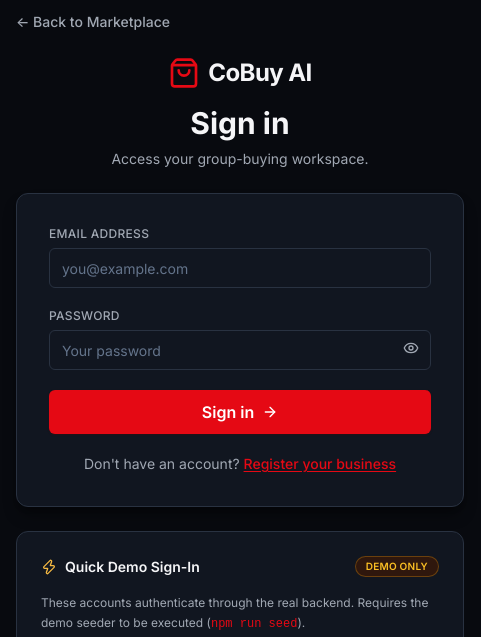
Scenario: HIM-04: LoginPage › shows password required error when password is empty
This screenshot has width=481, height=637.
Type "test@test.com" into the field labelled "Email address" at (240, 268), box x1=49 y1=248 x2=431 y2=288
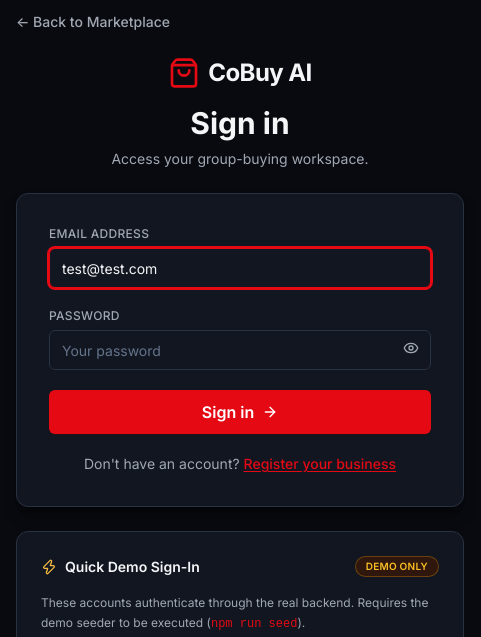
Click the button with aria-label "sign in to your account" at (240, 412), box x1=49 y1=390 x2=431 y2=434
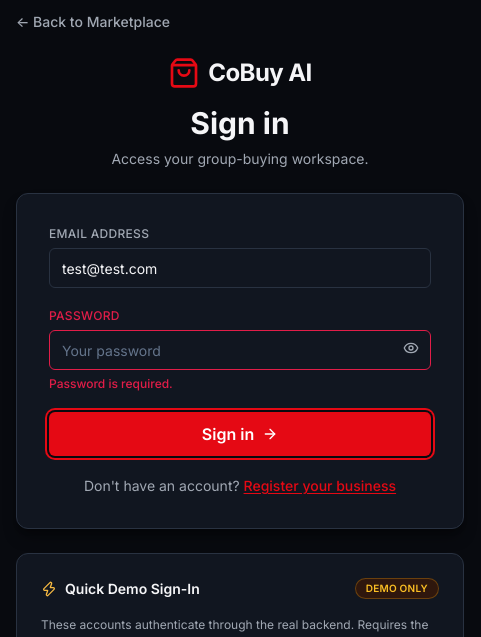
Result: the text "Password is required." is shown at x1=49 y1=376 x2=173 y2=391
